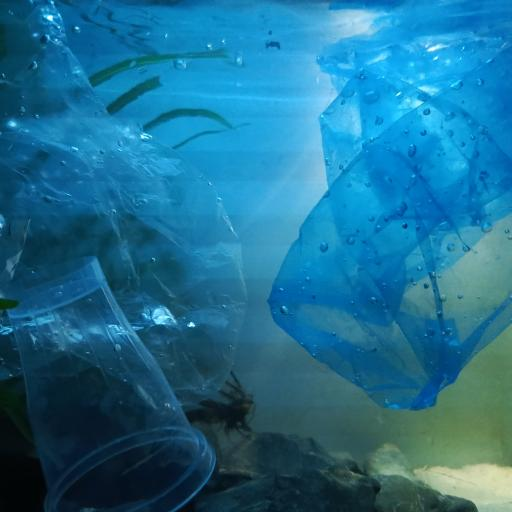plastic_bag: (0, 0, 247, 409), (266, 26, 512, 411)
plastic_cup: (0, 259, 217, 512)
